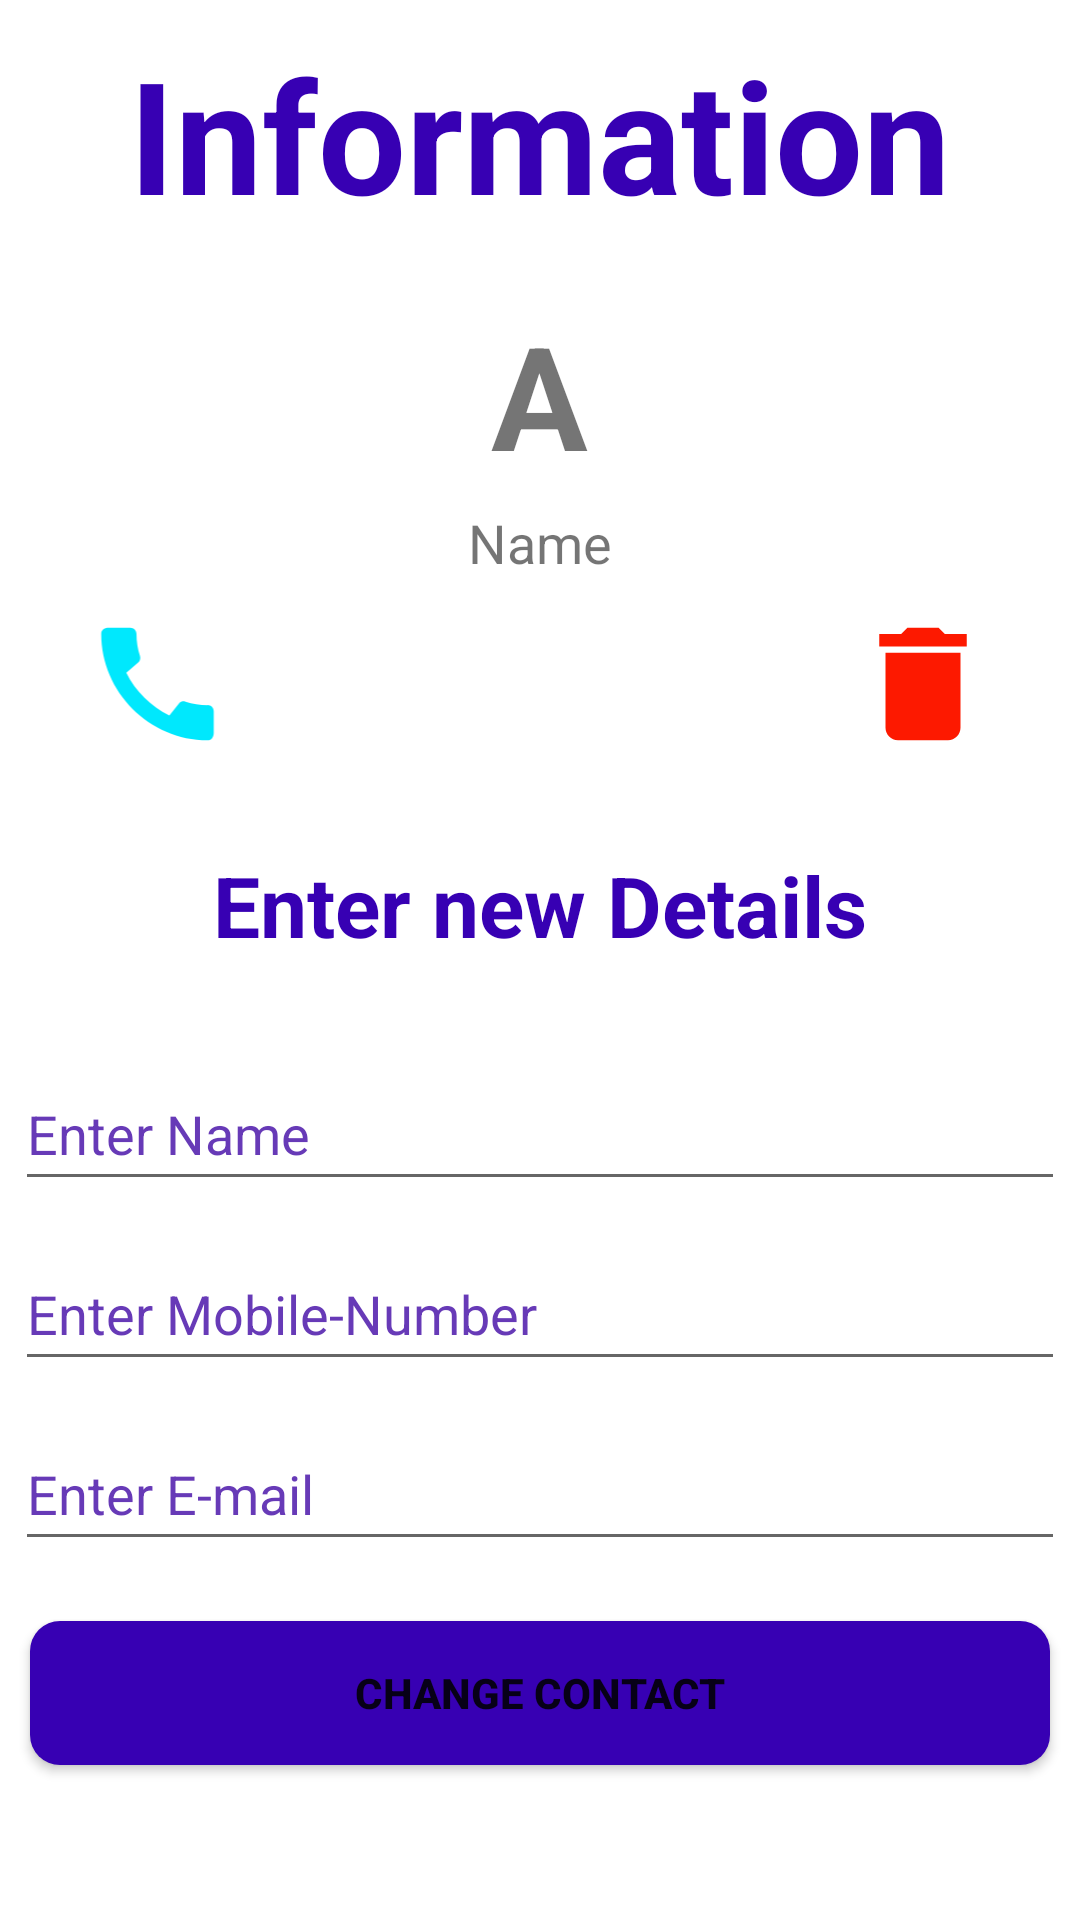

Icon bounding boxes for this 1080 x 1920 phone screenshot, format (x1, y1, x2, y2):
call: (100, 627, 215, 741)
delete: (879, 627, 967, 741)
